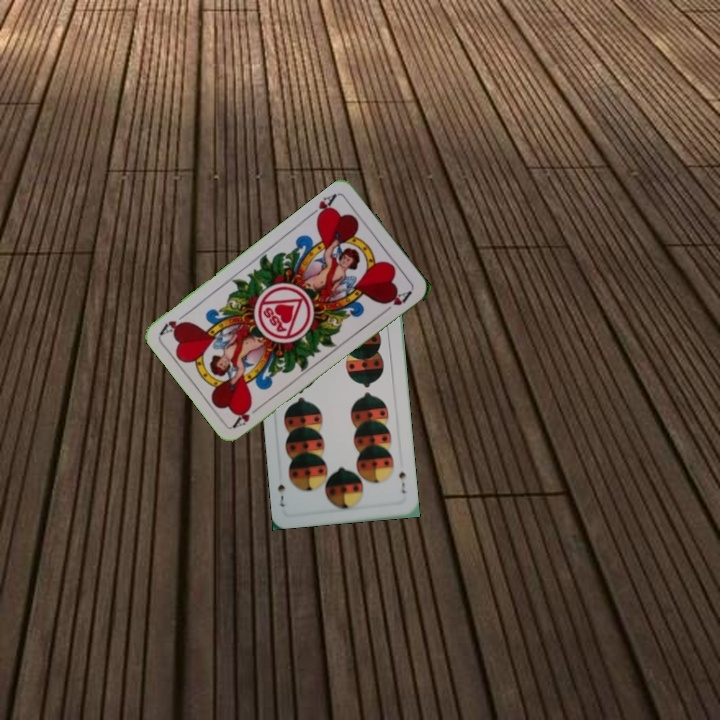HA: (305, 189, 340, 224), (229, 401, 265, 430)
S7: (395, 466, 408, 496)
